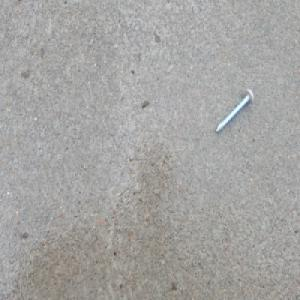Nail: (216, 88, 255, 137)
